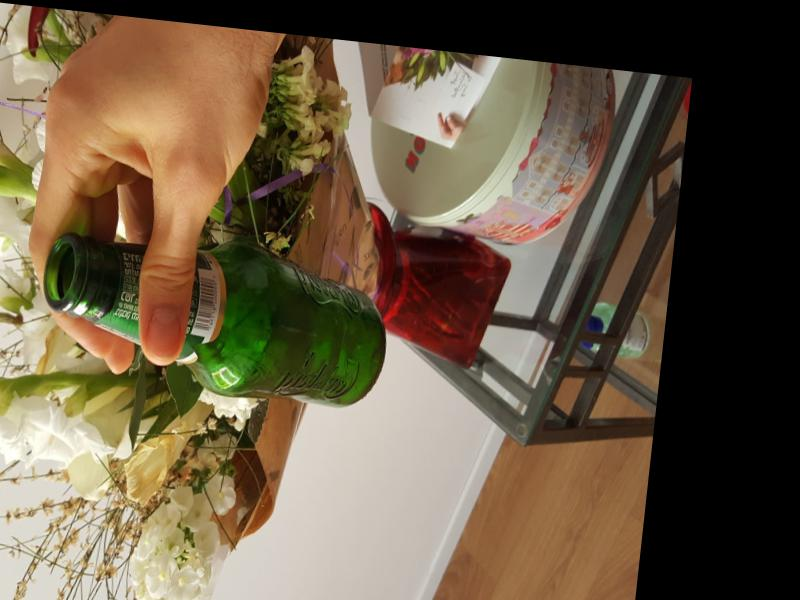Beer: (35, 222, 396, 414)
